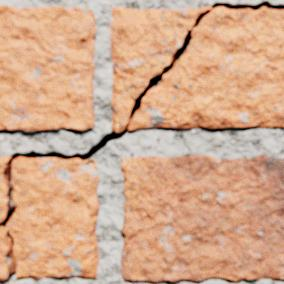brick: (121, 154, 283, 280), (0, 5, 96, 131)
broken_brick: (111, 7, 283, 130), (7, 157, 99, 278), (0, 157, 10, 220), (0, 227, 9, 280)
crack: (0, 1, 283, 283)
